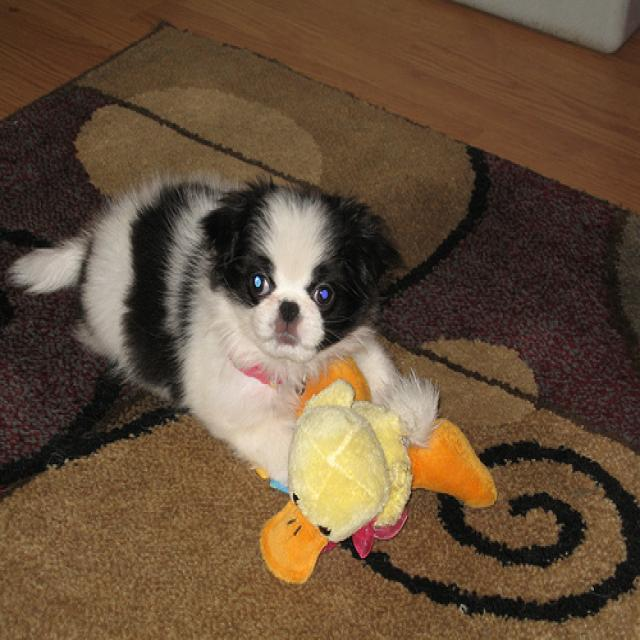dog-japanese_chin: (1, 160, 444, 507)
